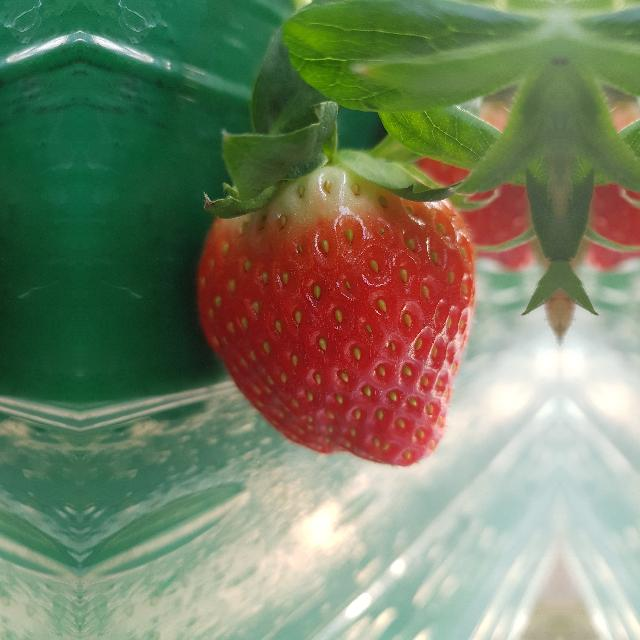Health_100: (191, 162, 477, 466)
